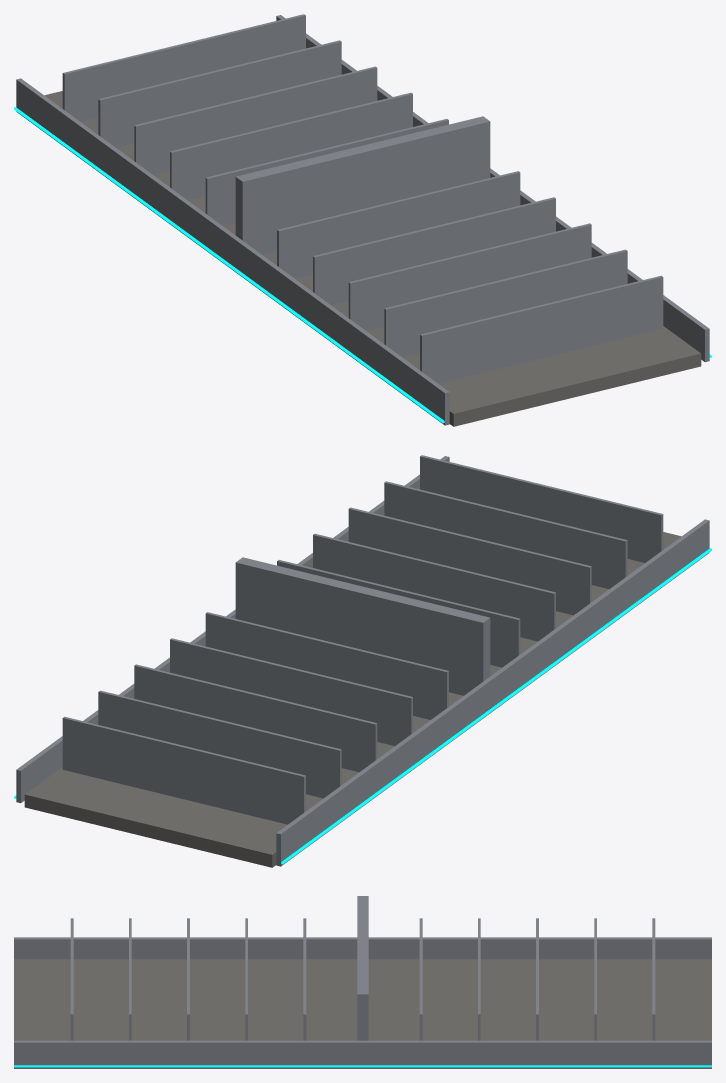
File: ELEV_Bridge_Span_LG.glb
3 views of the same model, one above another, from view 1: azimuth 30°, elevation 25°; view 2: azimuth 150°, elevation 25°; view 3: azimuth 270°, elevation 25° (orthographic). The views are drawn at different scales.
Parts seen in each view (by area): view 1: ELEV_Bridge_Span_LG; view 2: ELEV_Bridge_Span_LG; view 3: ELEV_Bridge_Span_LG.
Part boxes in pixels (<box>): ELEV_Bridge_Span_LG: <box>14,14,711,426</box>; ELEV_Bridge_Span_LG: <box>14,455,711,867</box>; ELEV_Bridge_Span_LG: <box>14,896,711,1068</box>.
Size of the model in its own units: 8.7 by 2.8 by 24.
